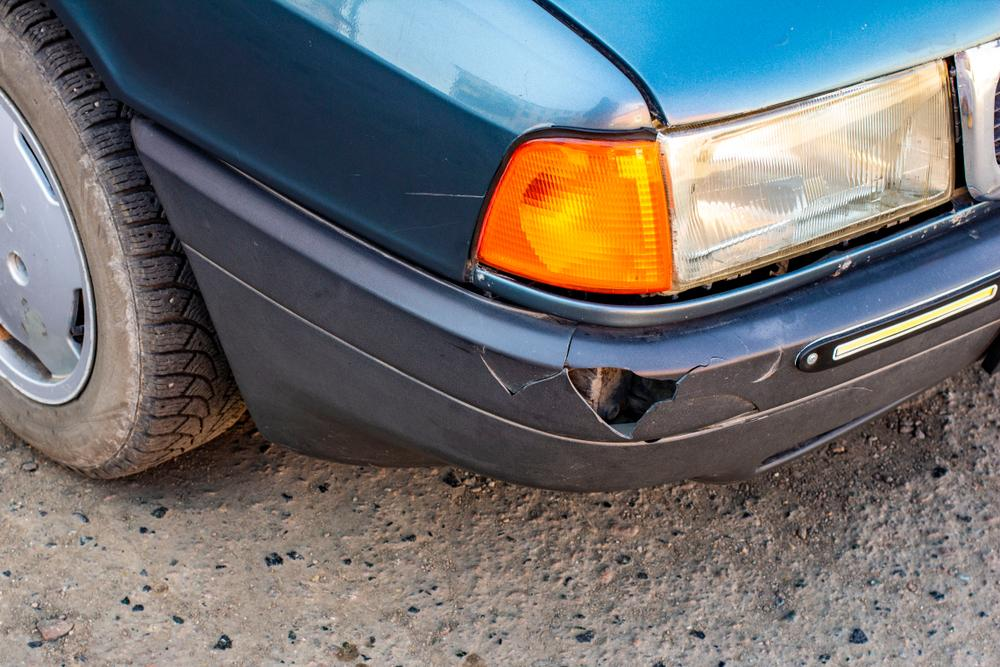crack: (477, 328, 731, 443)
